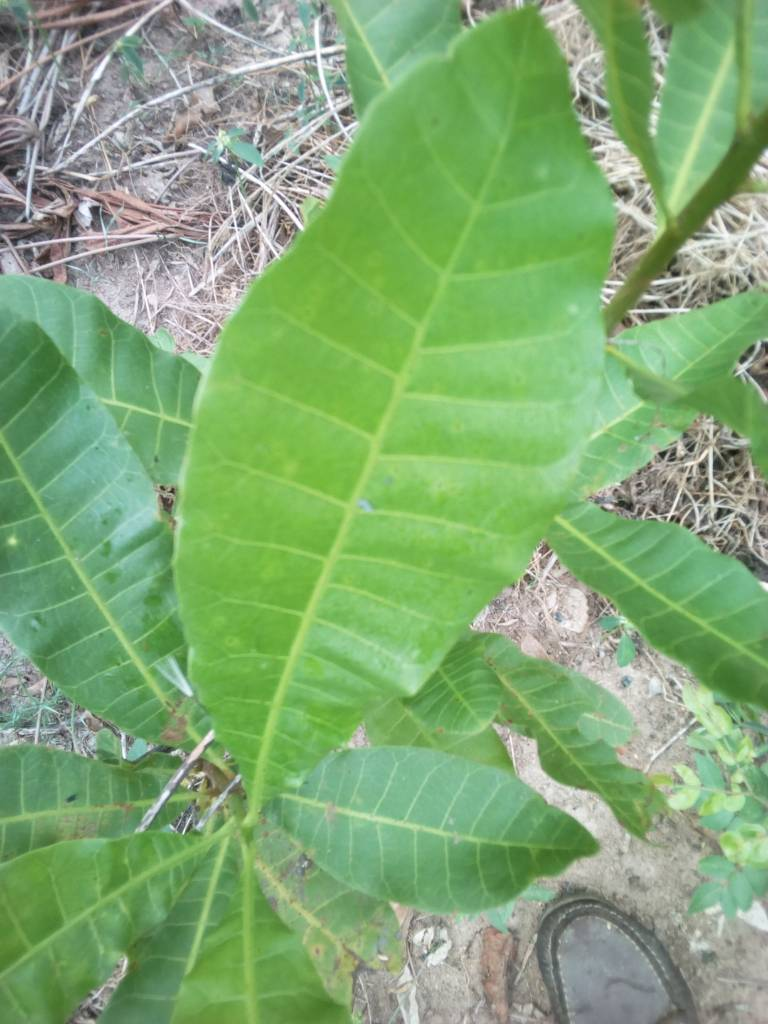Alternariose: (171, 1, 618, 772)
